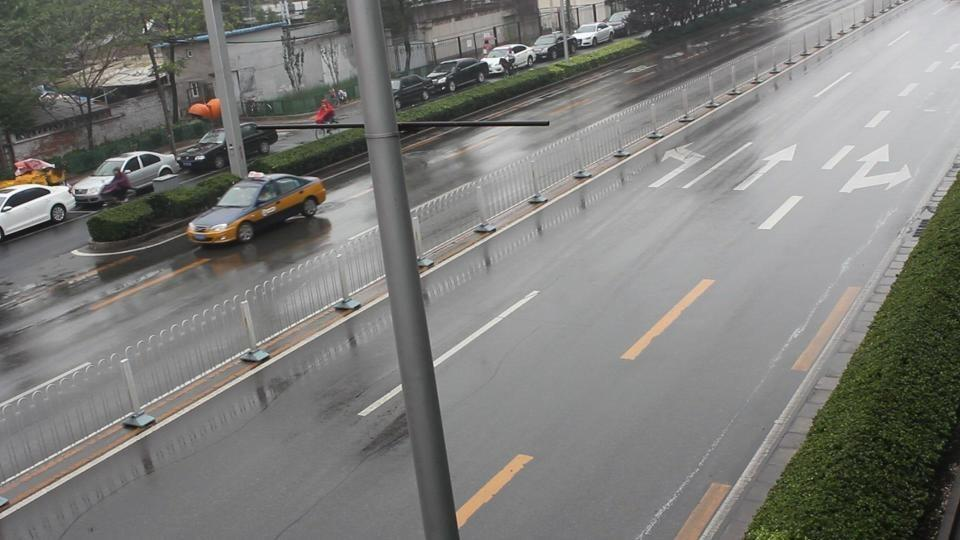car: (185, 170, 328, 247), (70, 151, 181, 207), (177, 123, 279, 170), (0, 183, 77, 242), (177, 130, 228, 173), (427, 58, 489, 93), (390, 75, 445, 109), (482, 43, 536, 76), (11, 158, 64, 185), (532, 31, 578, 61), (571, 22, 614, 48)
